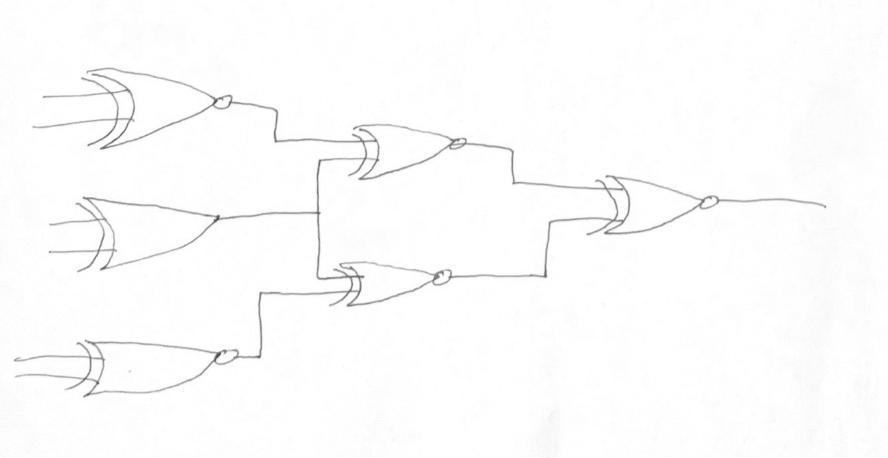XNOR: (69, 59, 251, 153), (581, 160, 735, 252), (73, 330, 254, 402), (345, 112, 500, 186), (329, 244, 467, 316)
XOR: (69, 177, 242, 282)
